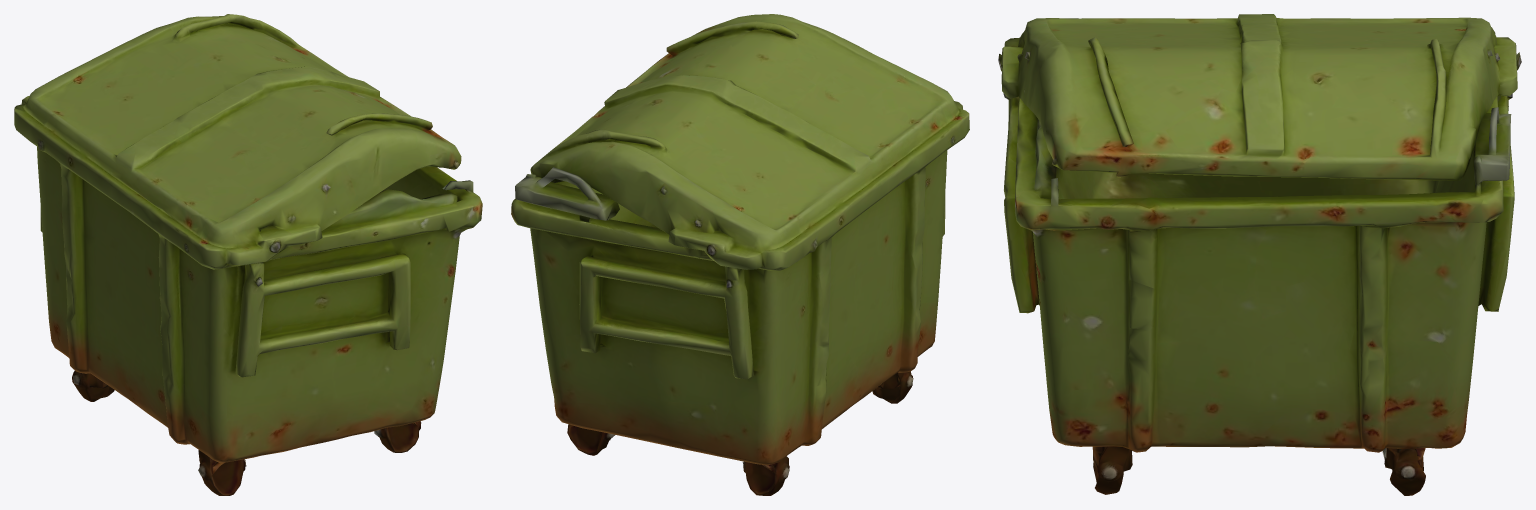
File: dumpster.glb
3 renders of one model, left to right at view 1: azimuth 30°, elevation 25°; view 2: azimuth 150°, elevation 25°; view 3: azimuth 270°, elevation 25°, orthographic. The views are drawn at different scales.
Visible parts, largest first — view 1: tripo_node_fdf5daa8-f716-402a-80d5-56e512b62606; view 2: tripo_node_fdf5daa8-f716-402a-80d5-56e512b62606; view 3: tripo_node_fdf5daa8-f716-402a-80d5-56e512b62606.
Part boxes in pixels (box(x1,y1,x2,y2)): tripo_node_fdf5daa8-f716-402a-80d5-56e512b62606: box(14, 14, 482, 495); tripo_node_fdf5daa8-f716-402a-80d5-56e512b62606: box(511, 14, 969, 495); tripo_node_fdf5daa8-f716-402a-80d5-56e512b62606: box(998, 14, 1521, 495).
Bounding box in the file's own units: 1.01 × 1.2 × 1.36.
Materials: 1 (1 with a texture image).
